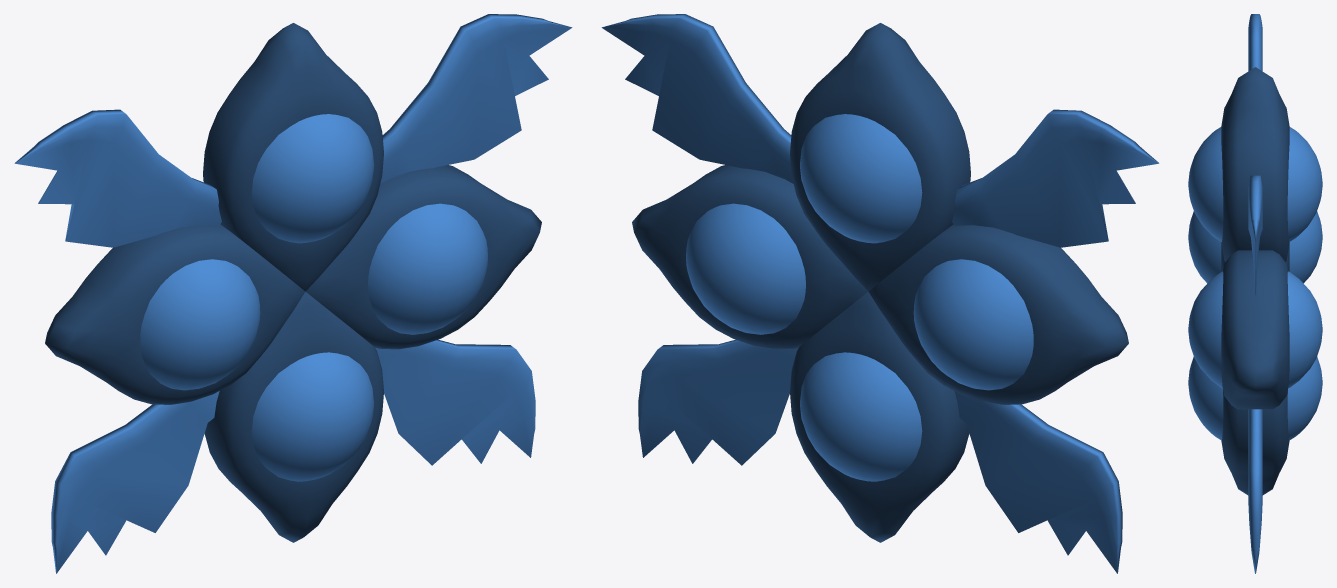
3 views of the same model, side by side, from view 1: azimuth 30°, elevation 25°; view 2: azimuth 150°, elevation 25°; view 3: azimuth 270°, elevation 25° (orthographic). The views are drawn at different scales.
Parts seen in each view (by area): view 1: B_Torso.001, B_Auge.001, B_Flügel.001, B_Flügel.002; view 2: B_Torso.001, B_Auge.001, B_Flügel.001, B_Flügel.002; view 3: B_Torso.001, B_Auge.001, B_Flügel.002, B_Flügel.001.
Boxes of the visible parts, x1,y1,x2,y2 form: B_Torso.001: (45,23,541,542); B_Auge.001: (140,114,487,481); B_Flügel.001: (14,14,572,247); B_Flügel.002: (51,339,535,573); B_Torso.001: (632,23,1128,542); B_Auge.001: (686,114,1033,481); B_Flügel.001: (601,14,1159,247); B_Flügel.002: (638,339,1122,573); B_Torso.001: (1221,67,1289,495); B_Auge.001: (1188,127,1322,440); B_Flügel.002: (1248,409,1262,573); B_Flügel.001: (1248,14,1262,295).
Bounding box in the file's own units: 796 × 710 × 200.
